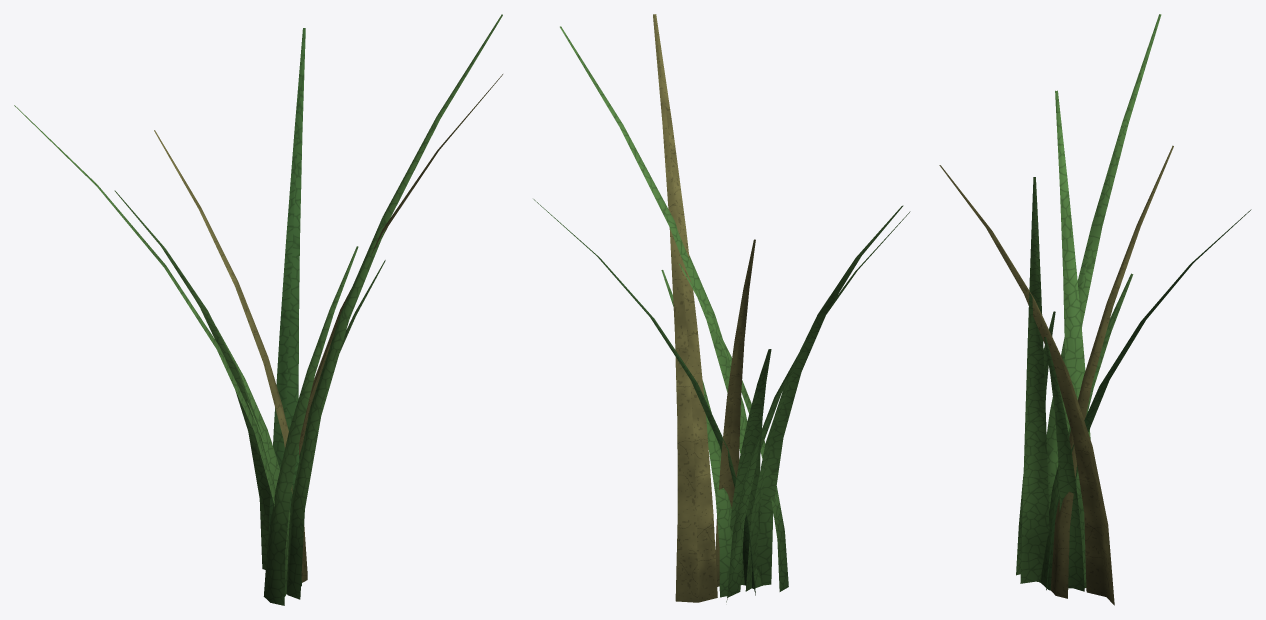
Rendered from grass_clump.glb.
The picture shows the model from 3 angles, left to right: view 1: azimuth 30°, elevation 25°; view 2: azimuth 150°, elevation 25°; view 3: azimuth 270°, elevation 25°; orthographic projection. The views are drawn at different scales.
Parts seen in each view (by area): view 1: grass_clump; view 2: grass_clump; view 3: grass_clump.
Boxes of the visible parts, x1,y1,x2,y2 form: grass_clump: (14, 14, 502, 605); grass_clump: (533, 14, 910, 602); grass_clump: (939, 14, 1251, 605).
Bounding box in the file's own units: 21.13 × 25.23 × 14.18.
3 materials, 3 textured.
